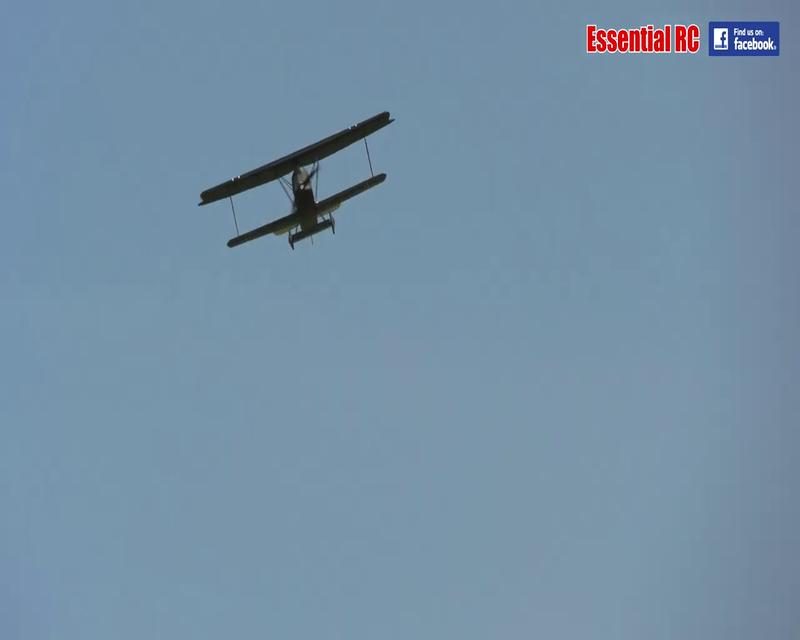UAV: (196, 109, 396, 252)
